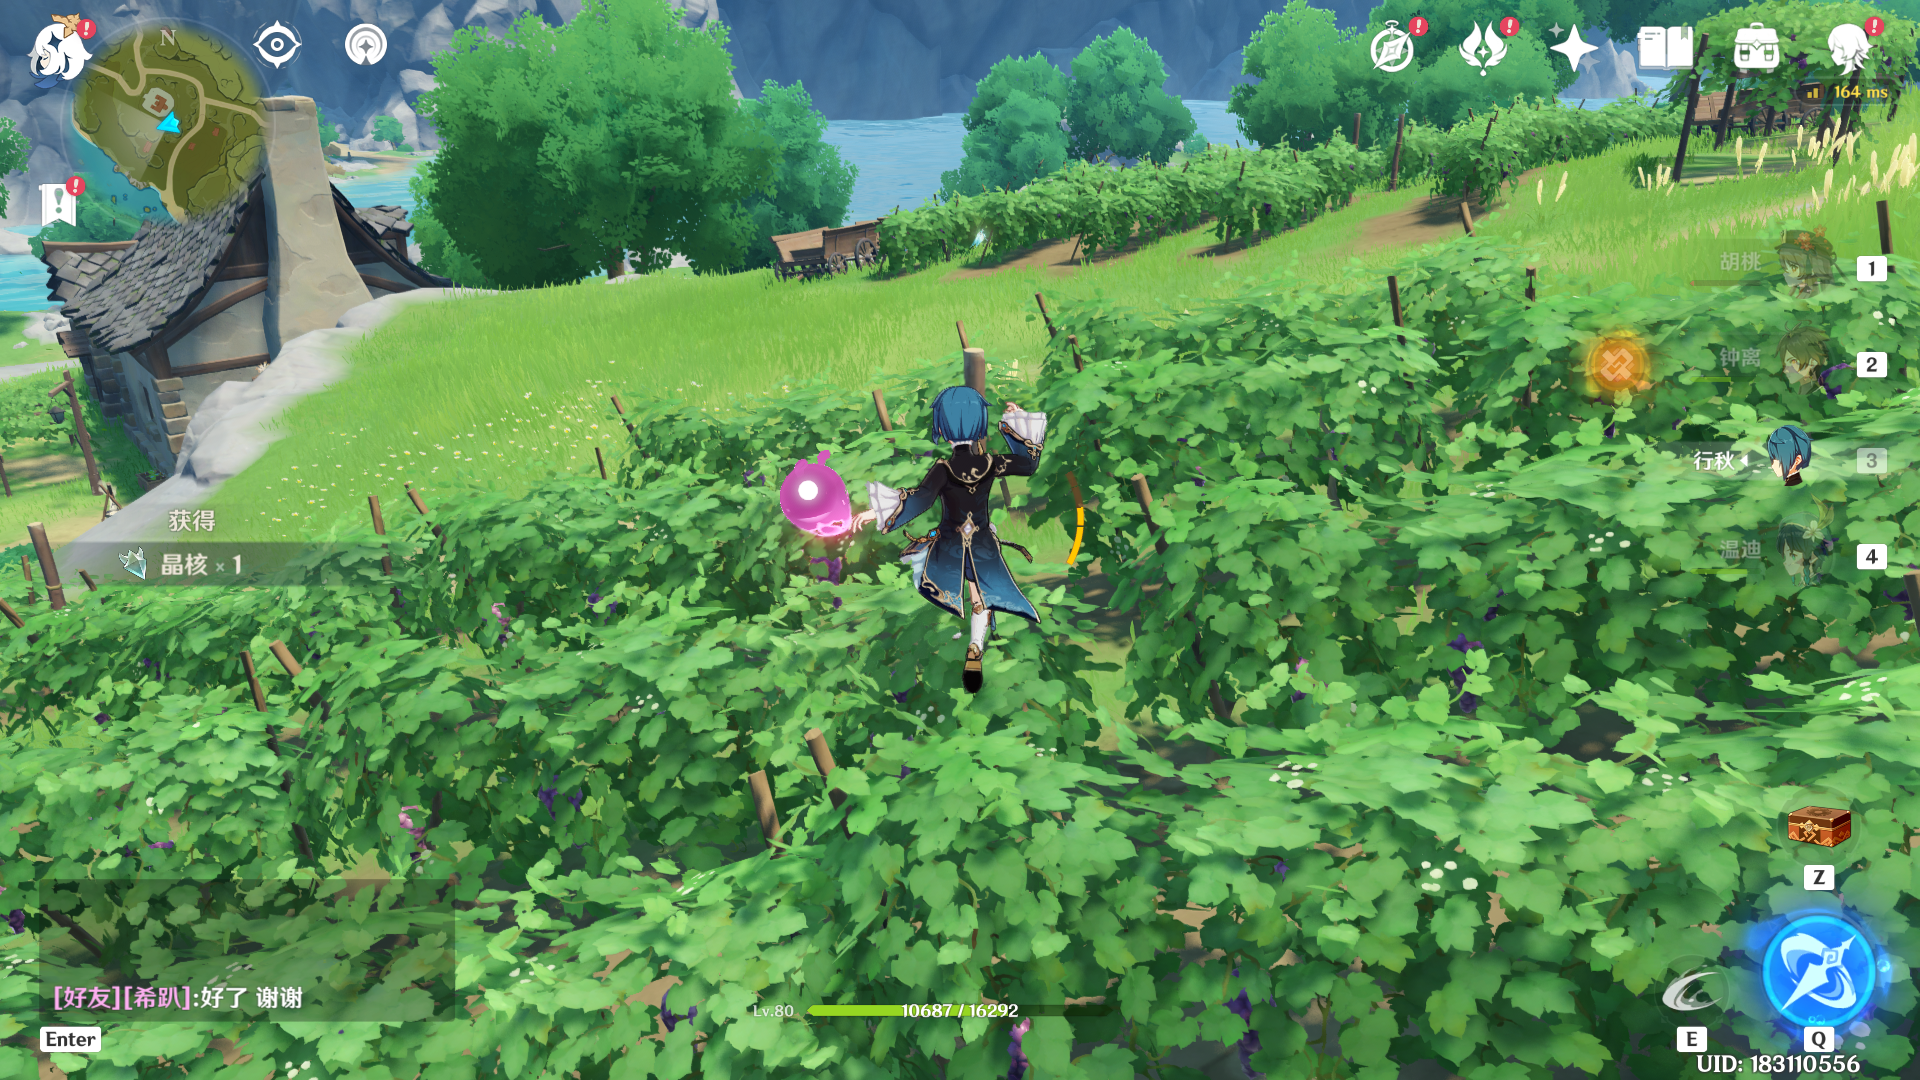character: (825, 359, 1087, 709)
